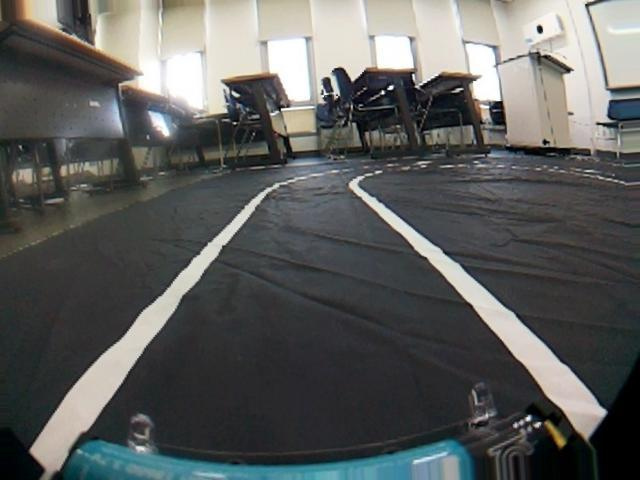straight: (0, 167, 640, 480)
